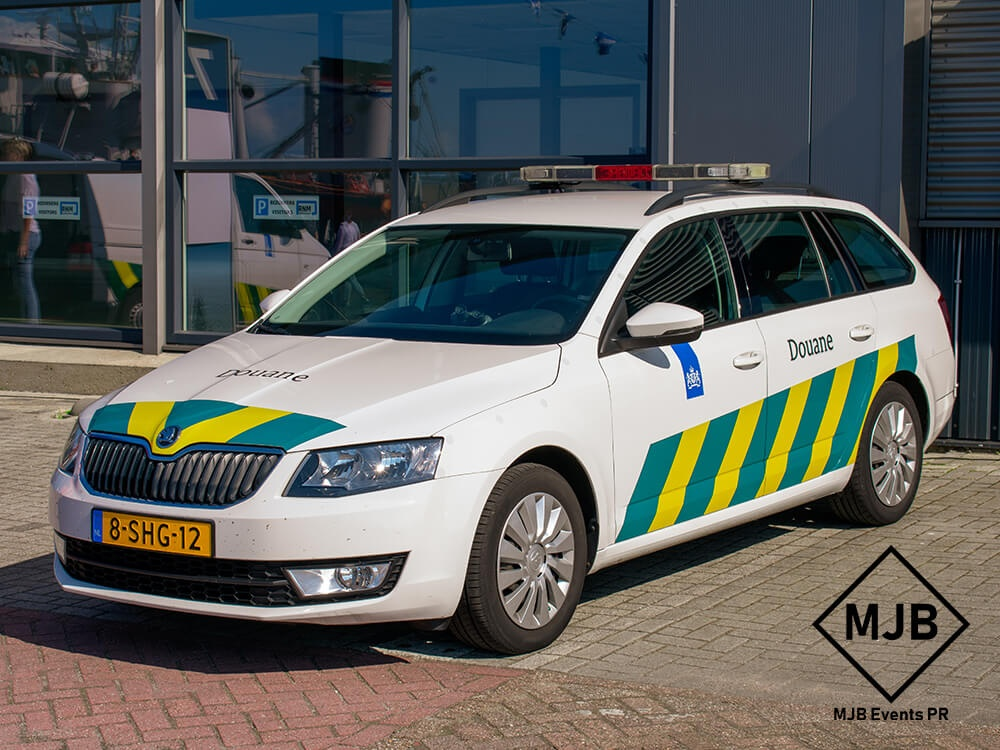number_plate: (88, 507, 216, 556)
